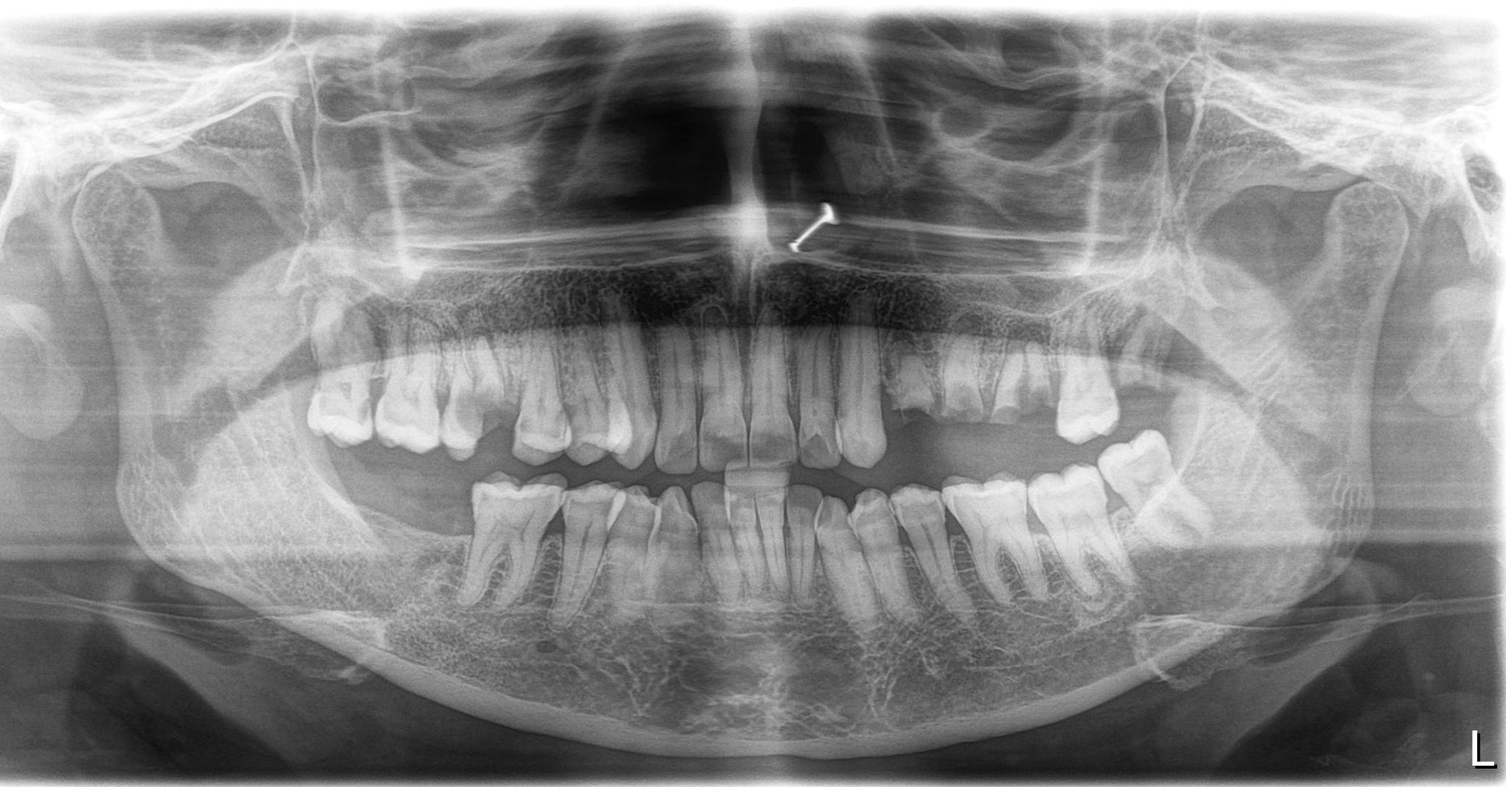Dental Caries: (447, 386, 523, 434)
Missing Tooth: (327, 463, 389, 610), (397, 467, 440, 613)
Retained Root: (1105, 309, 1192, 419), (927, 342, 988, 449), (879, 347, 932, 447), (989, 347, 1027, 452), (1033, 345, 1063, 453)
